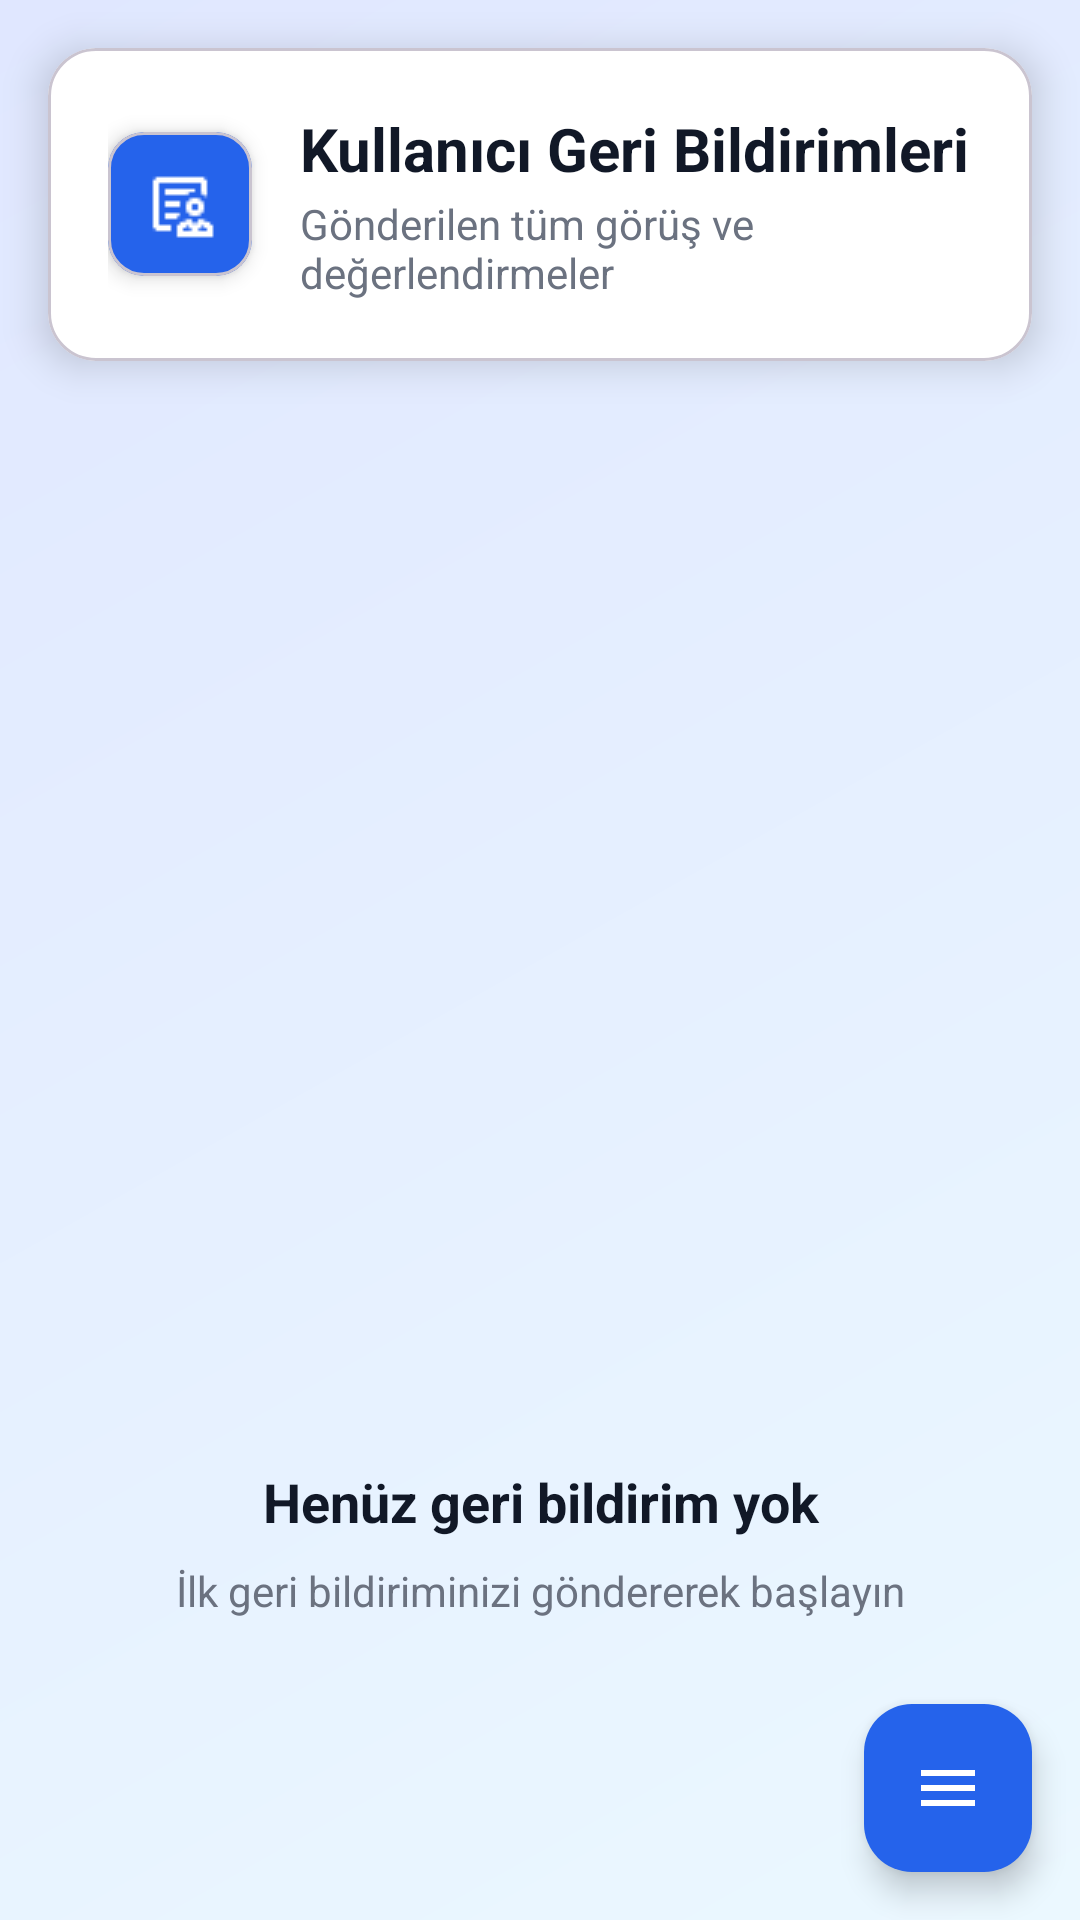

Screen size 1080 × 1920. Icon name, then its box in pixels as Rect(x1, y1, x2, y2):
Menü: Rect(864, 1704, 1032, 1872)
